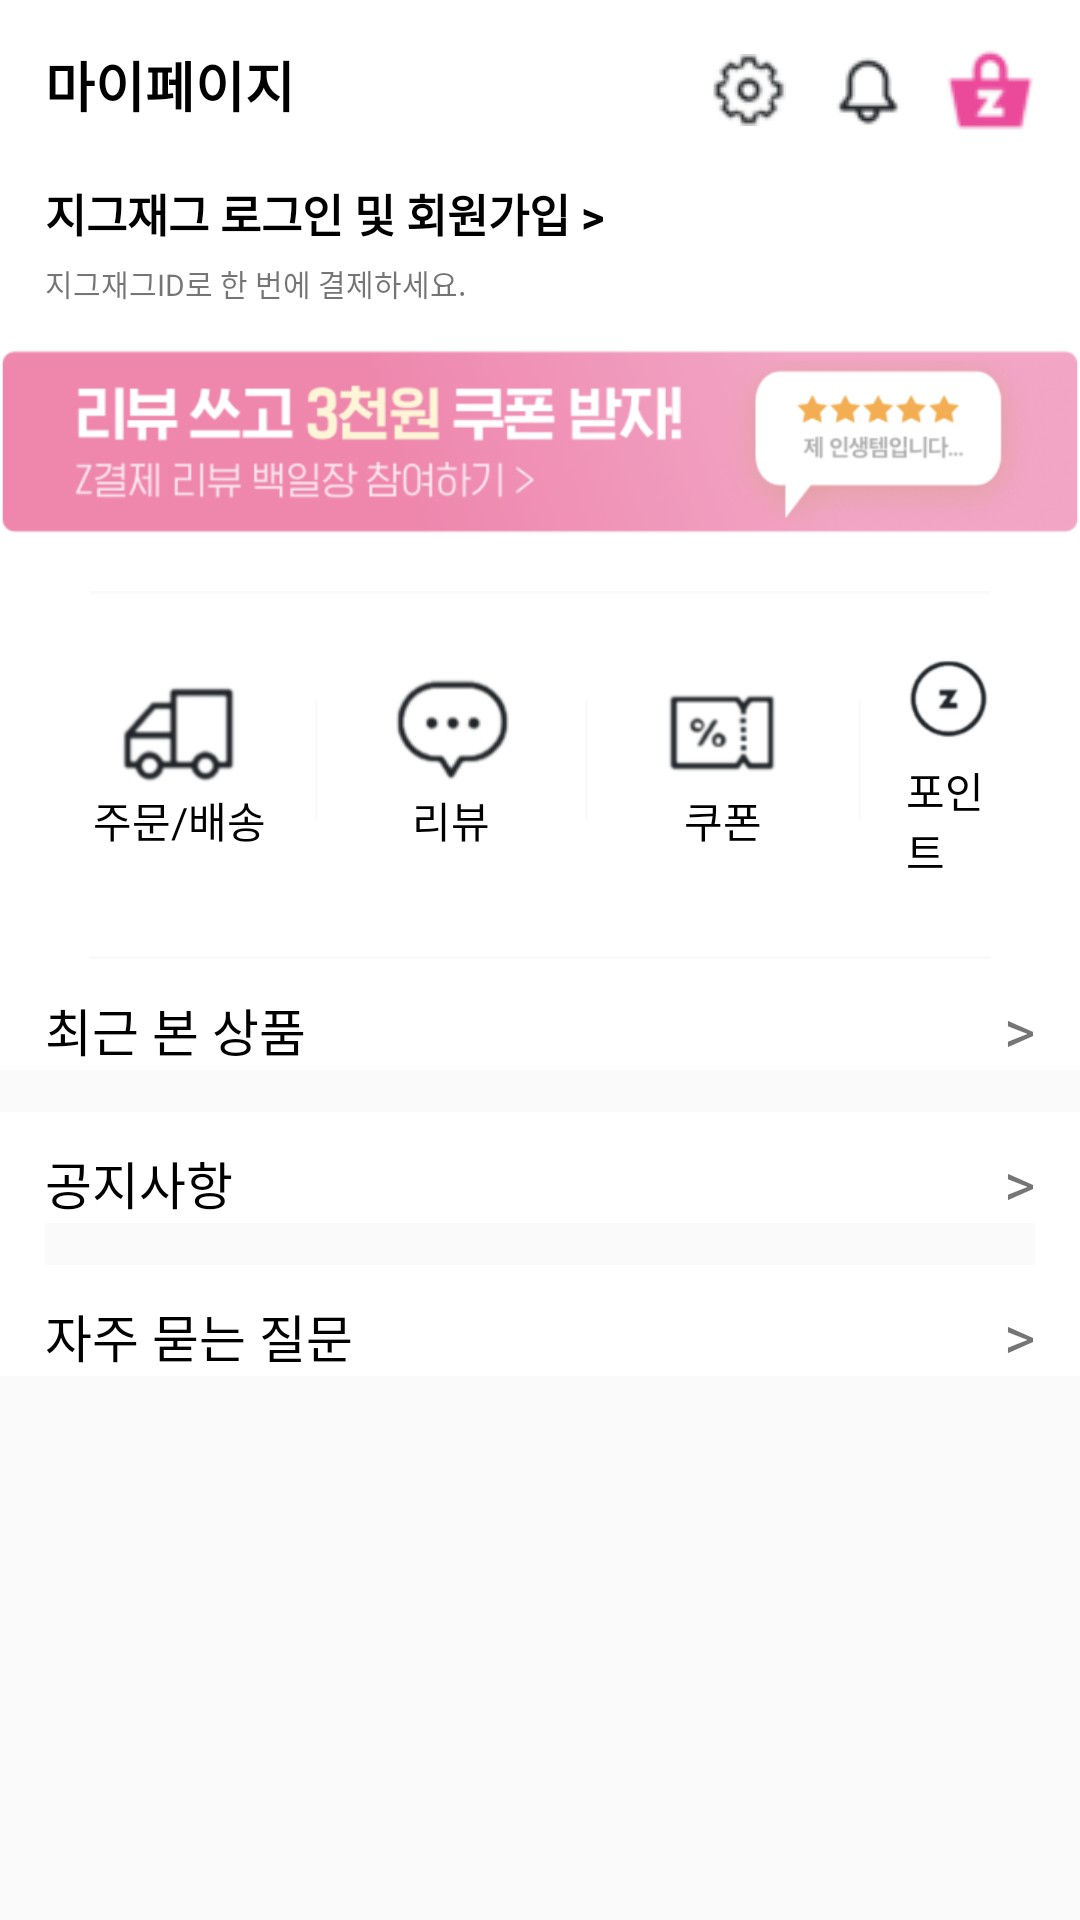

Where icons sit on this 1080*1920 app screen, as Rect(x1, y1, x2, y2):
car: Rect(123, 688, 234, 781)
set: Rect(713, 54, 784, 126)
